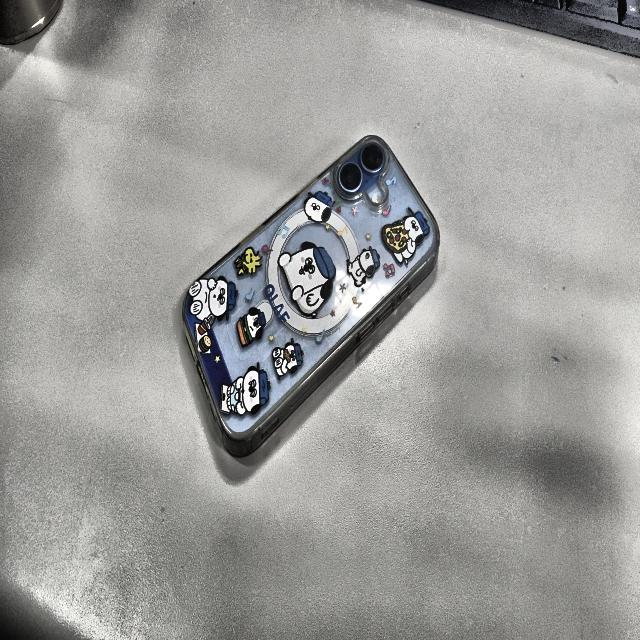PHONE: (182, 136, 440, 456)
